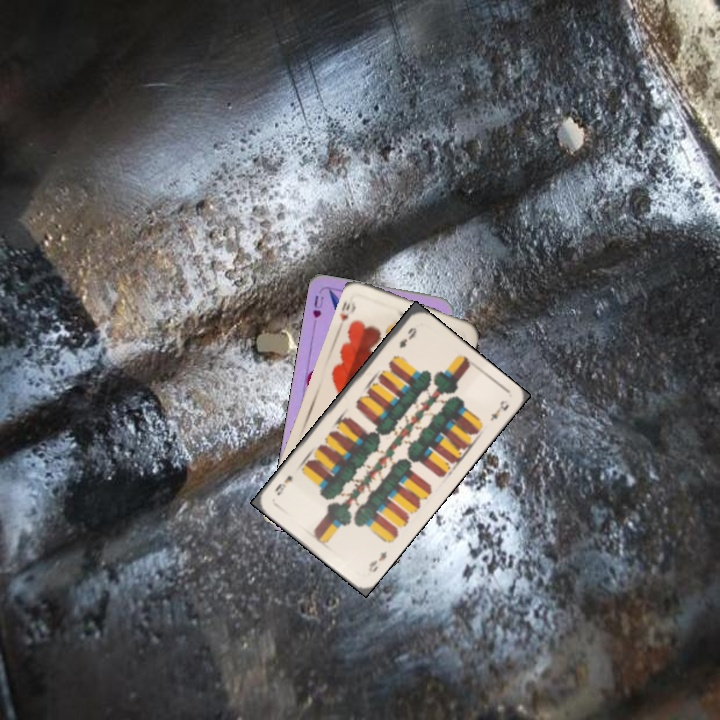E9: (364, 547, 389, 575), (395, 323, 419, 351)
H10: (334, 298, 358, 331)
HU: (309, 291, 326, 321)
